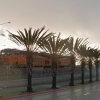Palm tree: (8, 21, 91, 91)
